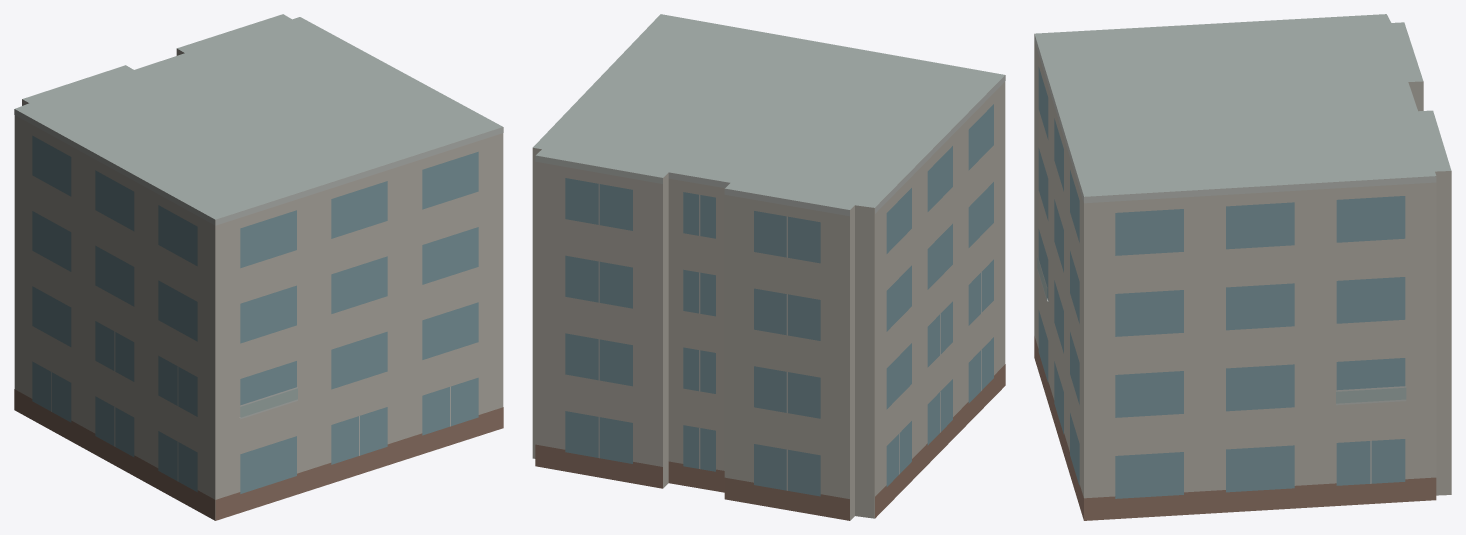
Rendered from survey-upis-32700436.glb.
3 renders of one model, left to right at view 1: azimuth 30°, elevation 25°; view 2: azimuth 150°, elevation 25°; view 3: azimuth 270°, elevation 25°, orthographic. The views are drawn at different scales.
Parts seen in each view (by area): view 1: survey-upis-32700436.tmp; view 2: survey-upis-32700436.tmp; view 3: survey-upis-32700436.tmp.
Part boxes in pixels (box(x1,y1,x2,y2)): survey-upis-32700436.tmp: box(14, 14, 503, 520); survey-upis-32700436.tmp: box(532, 14, 1005, 520); survey-upis-32700436.tmp: box(1034, 14, 1451, 520).
Size of the model in its own units: 14.77 by 12.2 by 14.24.
